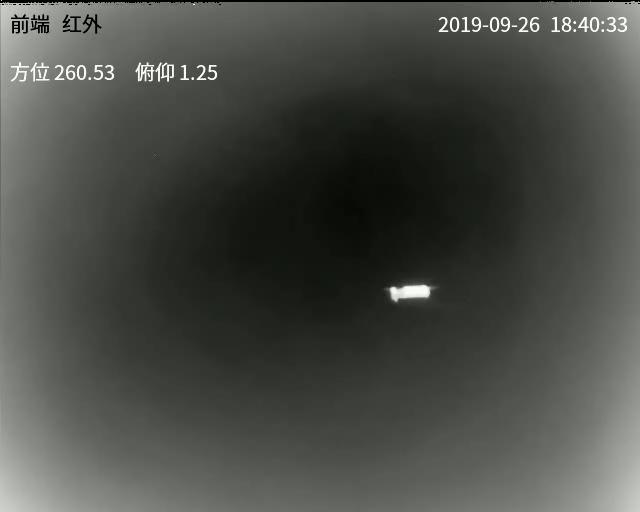uav: (378, 279, 440, 304)
